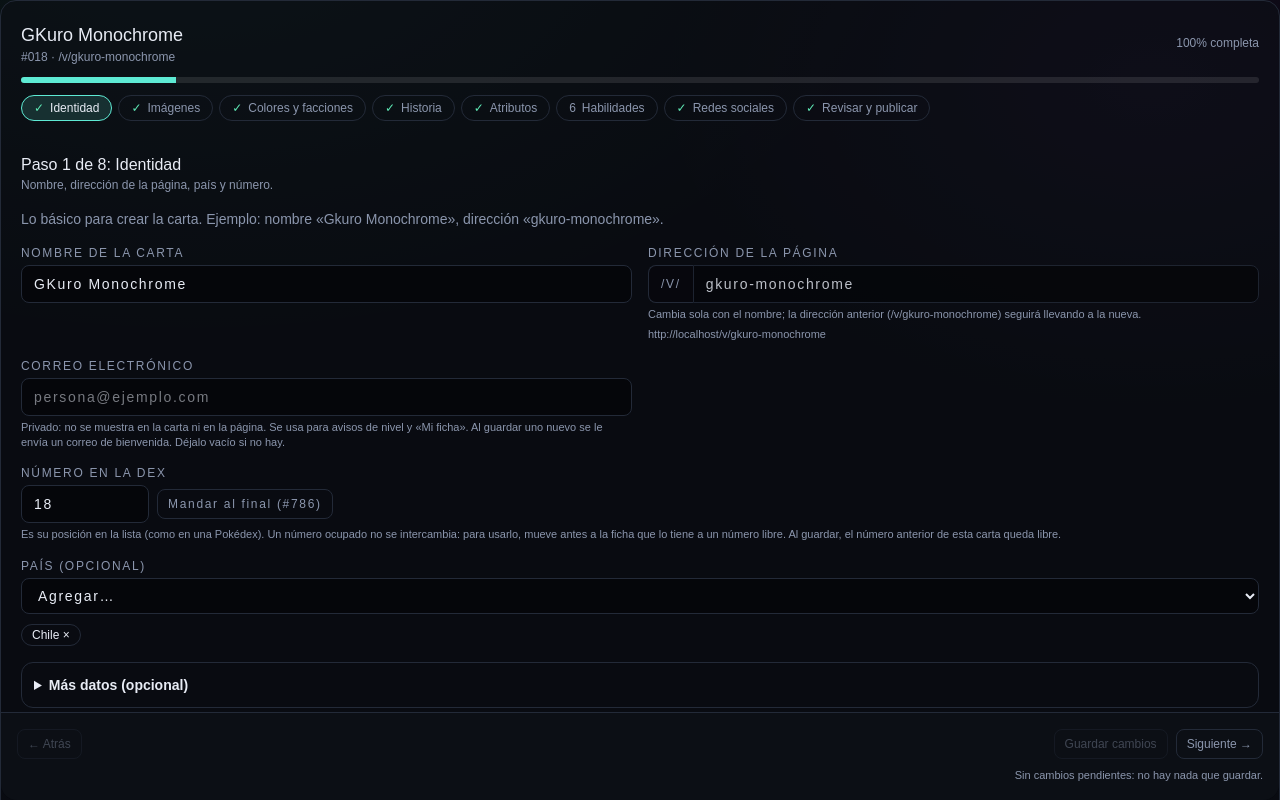
Test case: Asistente de carta: edición › una dirección repetida sugiere probar con «-2»
Expected: the button "Mandar al final (#786)" is shown, top-left (157, 490), bottom-right (333, 520)
Replace the text in the field labelled "Nombre de la carta" with "gkuro" at coordinates (326, 284), box top-left (21, 265), bottom-right (632, 303)
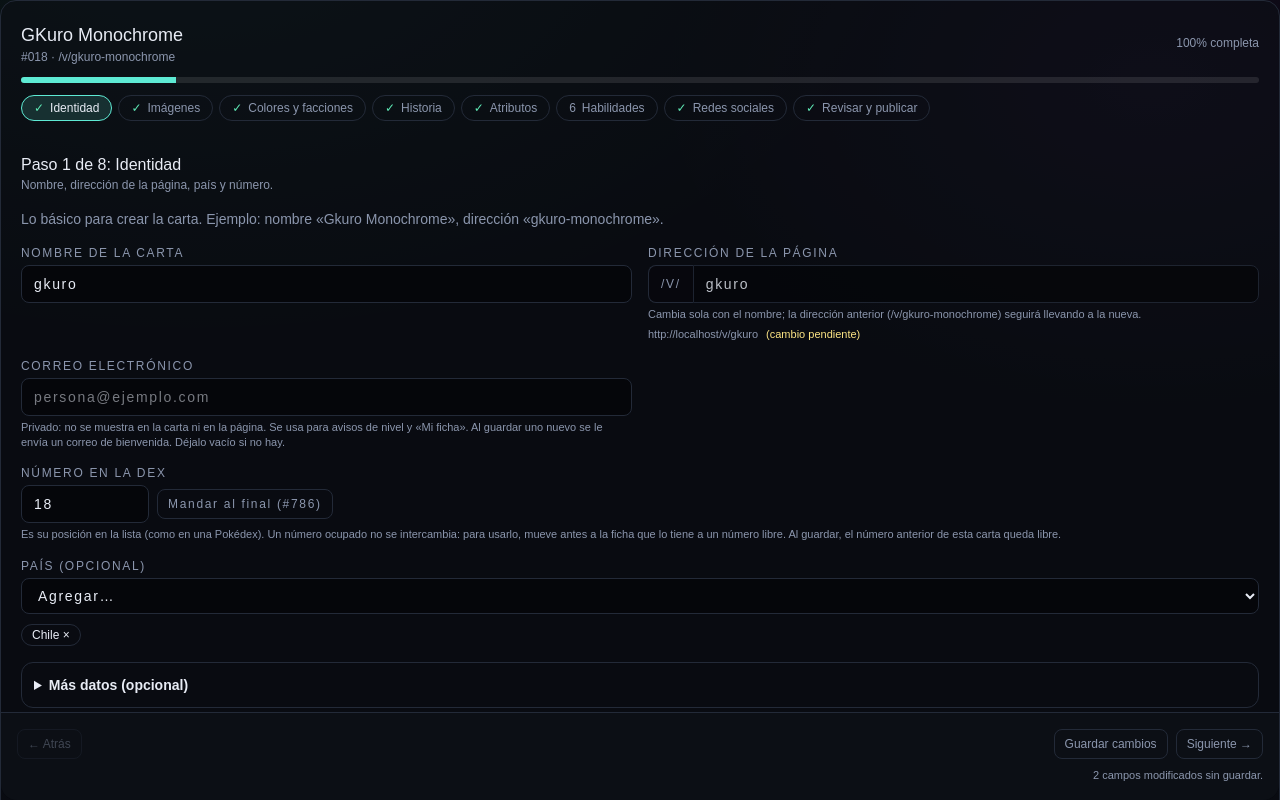
Click the button "Guardar cambios".
click(1111, 744)  # box top-left (1054, 730), bottom-right (1168, 760)
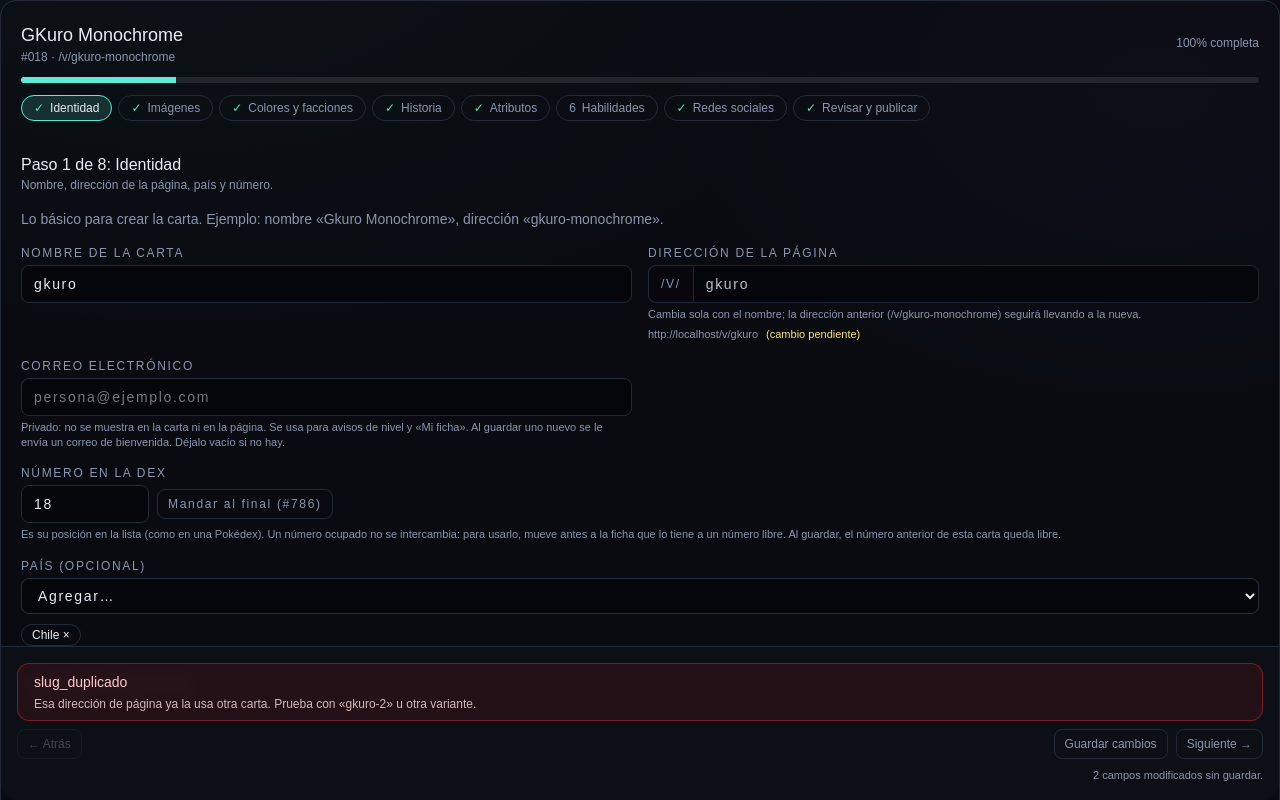
Expected: the text with test id "admin-slug-hint" shows "gkuro-2", top-left (34, 698), bottom-right (476, 712)
